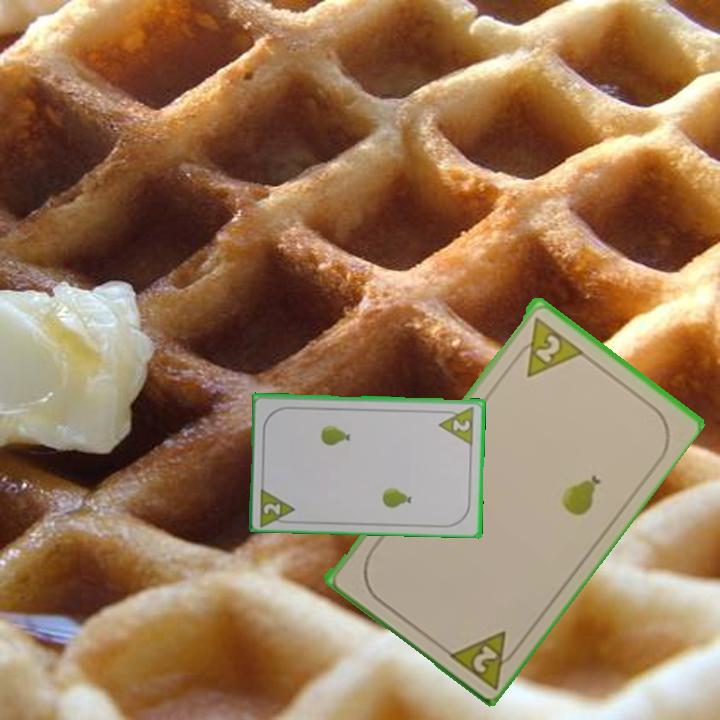2p: (442, 626, 525, 691), (509, 313, 584, 380), (436, 402, 477, 447), (257, 483, 298, 527)
